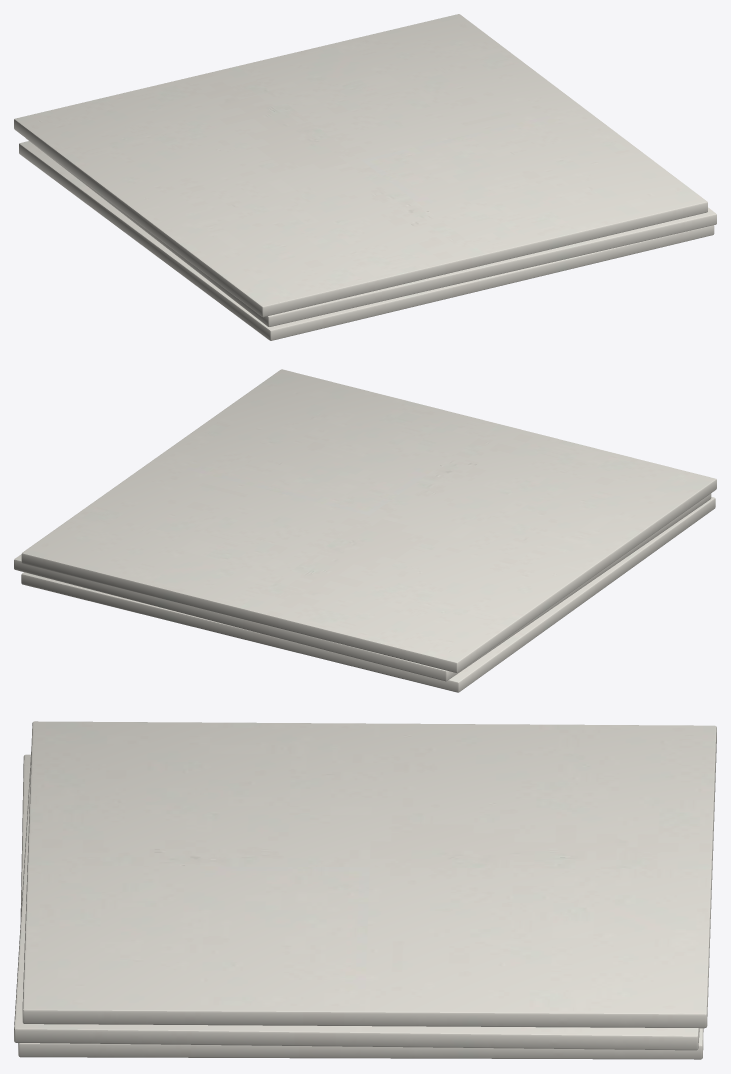
File: REV-FOR-003.glb
The picture shows the model from 3 angles, top to bottom: view 1: azimuth 30°, elevation 25°; view 2: azimuth 150°, elevation 25°; view 3: azimuth 270°, elevation 25°; orthographic projection. The views are drawn at different scales.
Visible parts, largest first — view 1: REV-FOR-003_placa2, REV-FOR-003_placa0, REV-FOR-003_placa1; view 2: REV-FOR-003_placa2, REV-FOR-003_placa0, REV-FOR-003_placa1; view 3: REV-FOR-003_placa2, REV-FOR-003_placa1, REV-FOR-003_placa0.
Part boxes in pixels (<box>): REV-FOR-003_placa2: <box>14,14,707,316</box>; REV-FOR-003_placa0: <box>19,141,714,340</box>; REV-FOR-003_placa1: <box>26,138,716,326</box>; REV-FOR-003_placa2: <box>21,369,716,672</box>; REV-FOR-003_placa0: <box>21,497,715,692</box>; REV-FOR-003_placa1: <box>14,493,711,681</box>; REV-FOR-003_placa2: <box>22,721,716,1028</box>; REV-FOR-003_placa1: <box>14,746,699,1050</box>; REV-FOR-003_placa0: <box>18,754,703,1059</box>.
Size of the model in its own units: 0.6493 by 0.0454 by 0.6417.
1 material, 1 textured.
